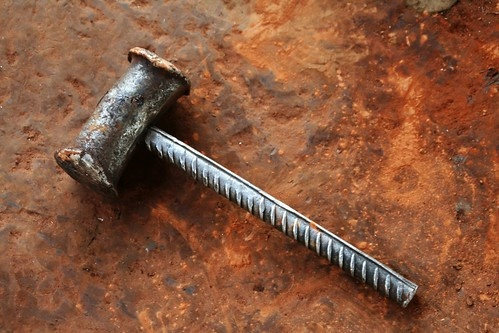hammer: (55, 46, 424, 308)
